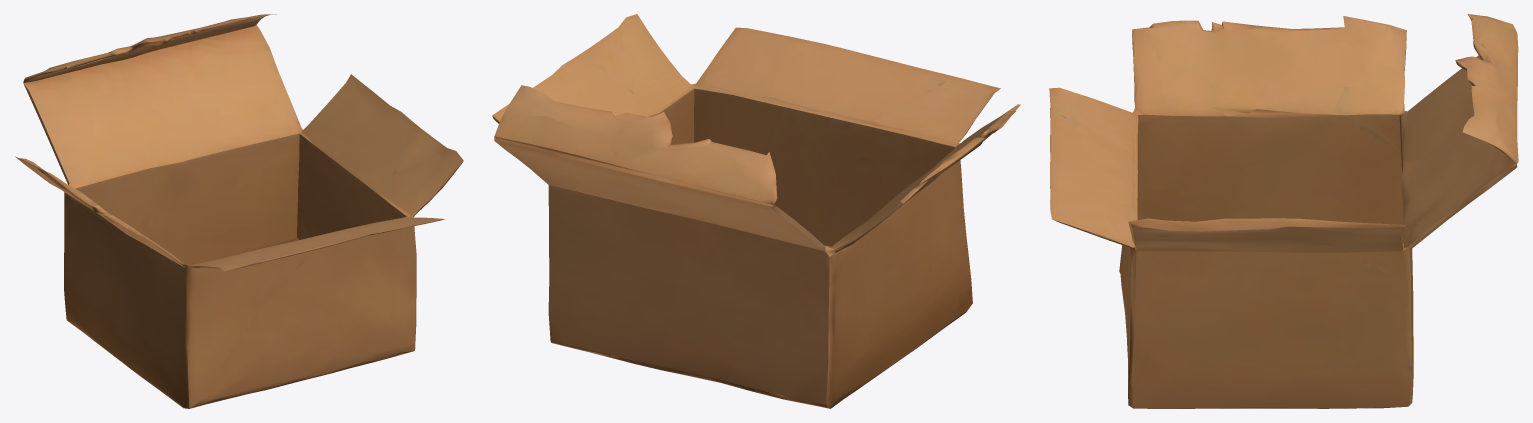
File: catBox.glb
3 renders of one model, left to right at view 1: azimuth 30°, elevation 25°; view 2: azimuth 150°, elevation 25°; view 3: azimuth 270°, elevation 25°, orthographic. The views are drawn at different scales.
Parts seen in each view (by area): view 1: model; view 2: model; view 3: model.
Part boxes in pixels (box(x1,y1,x2,y2)): model: box(15, 14, 463, 408); model: box(492, 14, 1020, 408); model: box(1049, 14, 1518, 408).
Size of the model in its own units: 1.89 by 1.27 by 1.9.
Materials: 1 (1 with a texture image).
